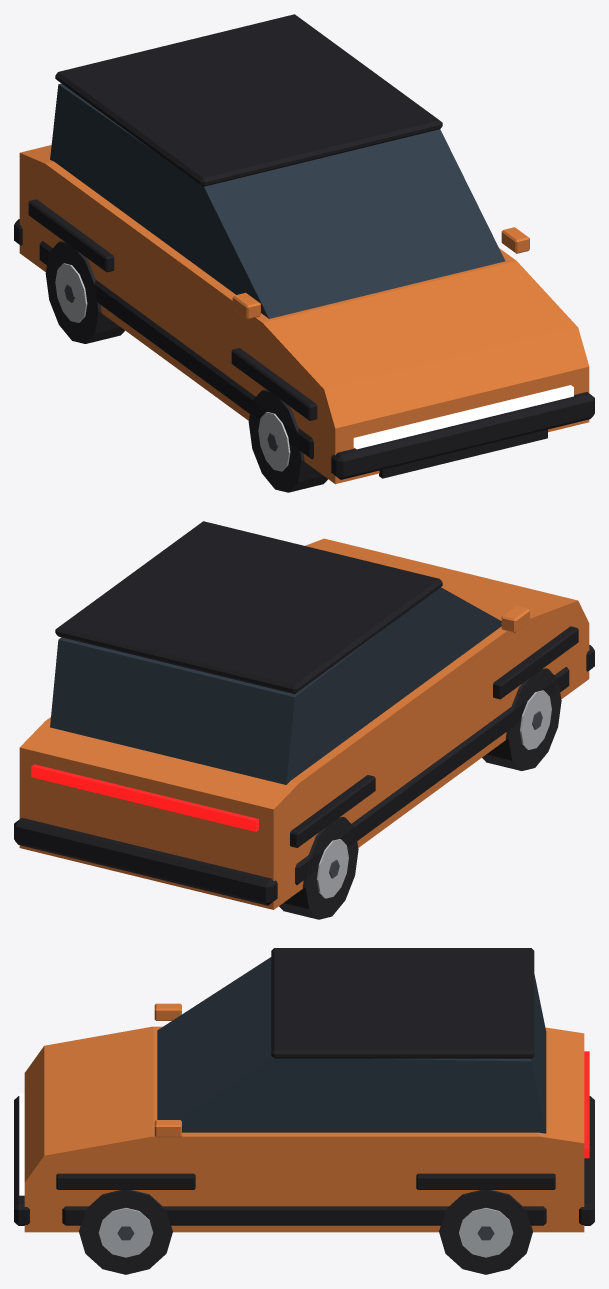
Rendered from Mart_Car_Compact.glb.
3 views of the same model, one above another, from view 1: azimuth 30°, elevation 25°; view 2: azimuth 150°, elevation 25°; view 3: azimuth 270°, elevation 25° (orthographic). The views are drawn at different scales.
Parts seen in each view (by area): view 1: Mart_Car_Compact, Mart_Car_Compact_Wheel_RL, Mart_Car_Compact_Wheel_FL; view 2: Mart_Car_Compact, Mart_Car_Compact_Wheel_FL, Mart_Car_Compact_Wheel_RL; view 3: Mart_Car_Compact, Mart_Car_Compact_Wheel_FR, Mart_Car_Compact_Wheel_RR.
Boxes of the visible parts, box(x1,y1,x2,y2) form: Mart_Car_Compact: box(14, 14, 594, 484); Mart_Car_Compact_Wheel_RL: box(45, 241, 124, 343); Mart_Car_Compact_Wheel_FL: box(248, 389, 327, 492); Mart_Car_Compact: box(14, 521, 594, 909); Mart_Car_Compact_Wheel_FL: box(482, 668, 561, 770); Mart_Car_Compact_Wheel_RL: box(279, 816, 358, 919); Mart_Car_Compact: box(14, 948, 594, 1232); Mart_Car_Compact_Wheel_FR: box(79, 1190, 172, 1274); Mart_Car_Compact_Wheel_RR: box(439, 1190, 532, 1274).
Size of the model in its own units: 1.92 by 1.6 by 3.84.
Materials: 1 (1 with a texture image).
